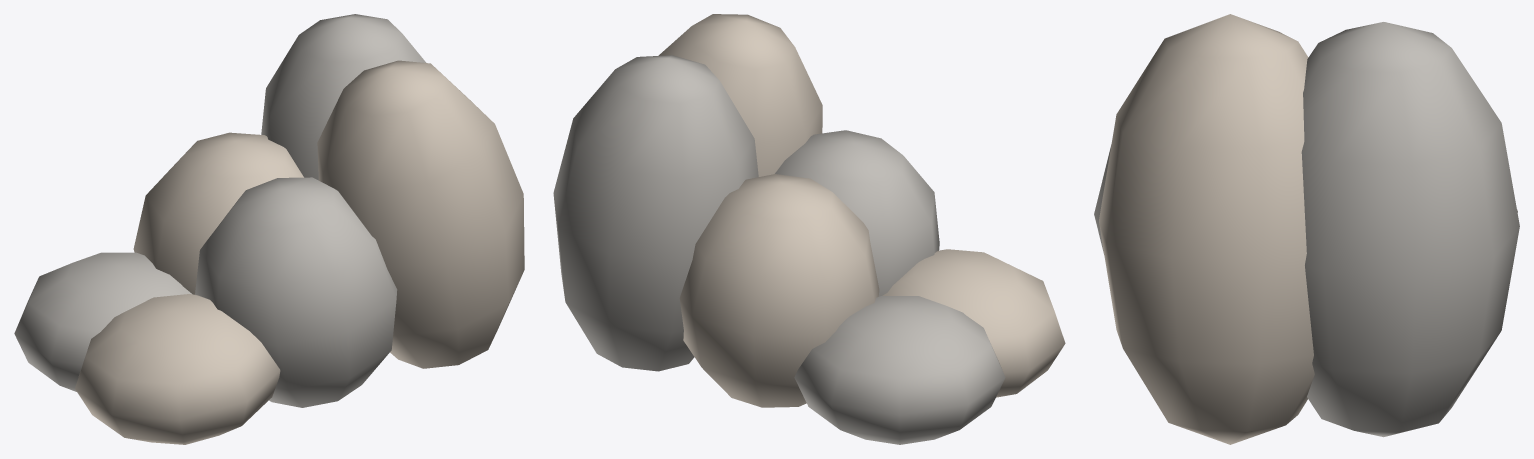
The model's file is savanna-wildlife-kopje-boulder-cluster-e7eee35e__6561.glb.
3 renders of one model, left to right at view 1: azimuth 30°, elevation 25°; view 2: azimuth 150°, elevation 25°; view 3: azimuth 270°, elevation 25°, orthographic. The views are drawn at different scales.
Parts seen in each view (by area): view 1: kopje-boulder-cluster; view 2: kopje-boulder-cluster; view 3: kopje-boulder-cluster.
Part boxes in pixels (bbox=[...]): kopje-boulder-cluster: bbox=[14, 14, 524, 444]; kopje-boulder-cluster: bbox=[553, 14, 1065, 444]; kopje-boulder-cluster: bbox=[1094, 14, 1519, 444].
Size of the model in its own units: 3.64 by 2.6 by 2.5.
